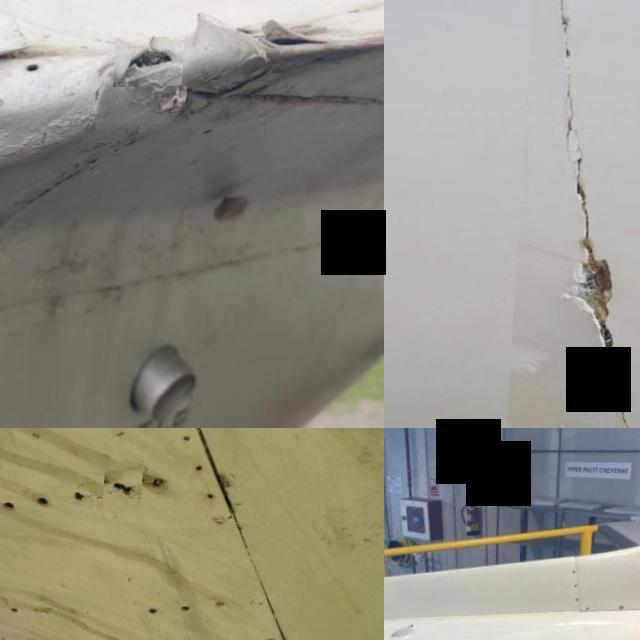Crack: (554, 0, 640, 428), (197, 0, 347, 66), (116, 23, 188, 88), (107, 472, 147, 511)
Missing_Fastener: (622, 606, 628, 612), (578, 600, 583, 604), (576, 572, 580, 576), (590, 608, 594, 612)
